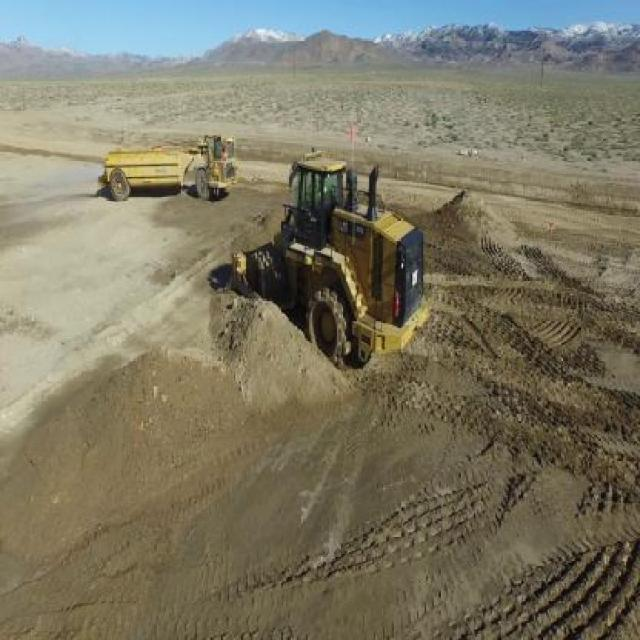Dump Truck: (100, 128, 237, 204)
Loader: (234, 147, 426, 365)
